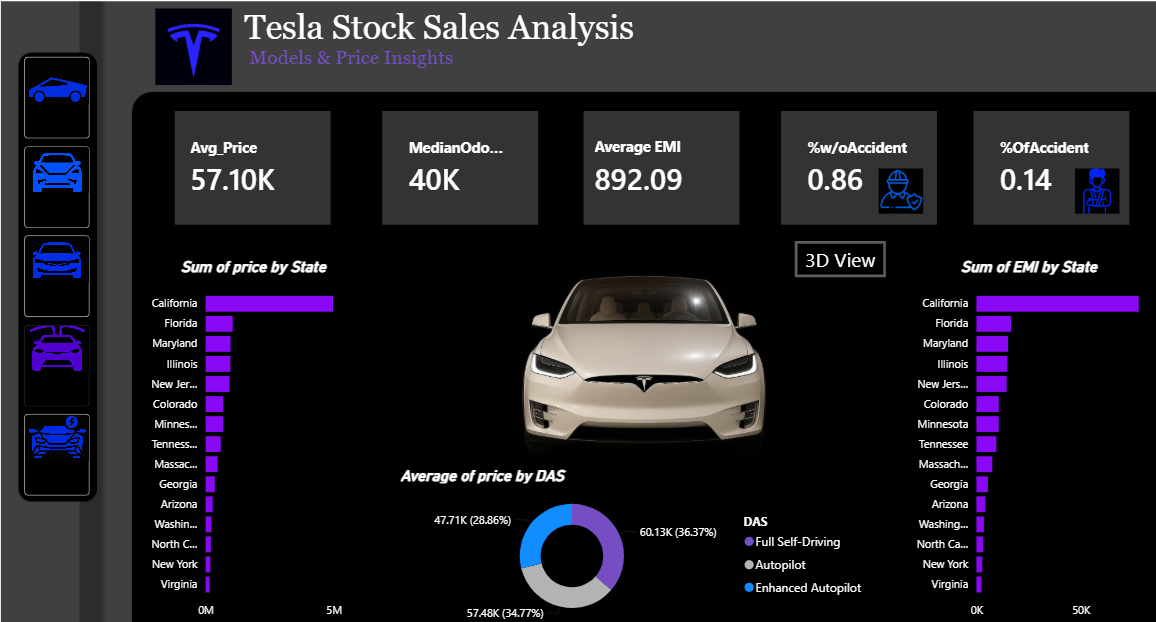

Layout of this report page (visuals, bound fields, positions):
{"tool":"powerbi","page":{"name":"Page 1","canvas":[1280,720],"ordinal":0},"visuals":[{"type":"advancedSlicerVisual","fields":{"Values":["Car_model_img.model"]},"box":[31.6,89.2,82.3,494],"z":0},{"type":"cardVisual","fields":{"Data":["Avg(Tesla stock data.price)"]},"box":[201.7,153.7,171.5,124.9],"z":1000},{"type":"image","box":[525.6,314.2,382.8,229.2],"z":2000},{"type":"clusteredBarChart","fields":{"Y":["Sum(Tesla stock data.price)"],"Category":["Tesla stock data.State"]},"box":[157.8,314.2,260.7,406.2],"z":3000},{"type":"clusteredBarChart","fields":{"Y":["Sum(Tesla stock data.EMI)"],"Category":["Tesla stock data.State"]},"box":[999,314.2,281.3,406.2],"z":4000},{"type":"donutChart","fields":{"Y":["Avg(Tesla stock data.price)"],"Category":["Tesla stock data.DAS"]},"box":[444.6,543.4,525.6,177],"z":5000},{"type":"cardVisual","fields":{"Data":["Tesla stock data.%w/oAccident"]},"box":[867.2,153.7,171.5,124.9],"z":6000},{"type":"cardVisual","fields":{"Data":["Median(Tesla stock data.odometer)"]},"box":[429.5,153.7,171.5,124.9],"z":7000},{"type":"cardVisual","fields":{"Data":["Avg(Tesla stock data.EMI)"]},"box":[650.4,153.7,171.5,124.9],"z":8000},{"type":"cardVisual","fields":{"Data":["Tesla stock data.%ofAccident"]},"box":[1078.6,153.7,171.5,124.9],"z":9000},{"type":"textbox","box":[237.4,35.7,480.3,94.7],"z":10000},{"type":"image","box":[156.4,41.2,131.7,83.7],"z":11000},{"type":"actionButton","box":[882.3,296.4,100.2,39.8],"z":12000},{"type":"image","box":[1178.7,216.8,71.4,49.4],"z":13000},{"type":"image","box":[963.3,216.8,71.4,49.4],"z":14000}]}

Visuals, with their boxes on the page's 1280x720 design canvas (x1, y1, x2, y2). These are canvas units, not pixel positions in the 1156x622 screenshot, which may show the page scaled, cropped or inside an application window:
advancedSlicerVisual - Car_model_img.model: detection(32, 89, 114, 583)
cardVisual - Avg(Tesla stock data.price): detection(202, 154, 373, 279)
image: detection(526, 314, 908, 543)
clusteredBarChart - Sum(Tesla stock data.price) x Tesla stock data.State: detection(158, 314, 418, 720)
clusteredBarChart - Sum(Tesla stock data.EMI) x Tesla stock data.State: detection(999, 314, 1280, 720)
donutChart - Avg(Tesla stock data.price) x Tesla stock data.DAS: detection(445, 543, 970, 720)
cardVisual - Tesla stock data.%w/oAccident: detection(867, 154, 1039, 279)
cardVisual - Median(Tesla stock data.odometer): detection(430, 154, 601, 279)
cardVisual - Avg(Tesla stock data.EMI): detection(650, 154, 822, 279)
cardVisual - Tesla stock data.%ofAccident: detection(1079, 154, 1250, 279)
textbox: detection(237, 36, 718, 130)
image: detection(156, 41, 288, 125)
actionButton: detection(882, 296, 982, 336)
image: detection(1179, 217, 1250, 266)
image: detection(963, 217, 1035, 266)
